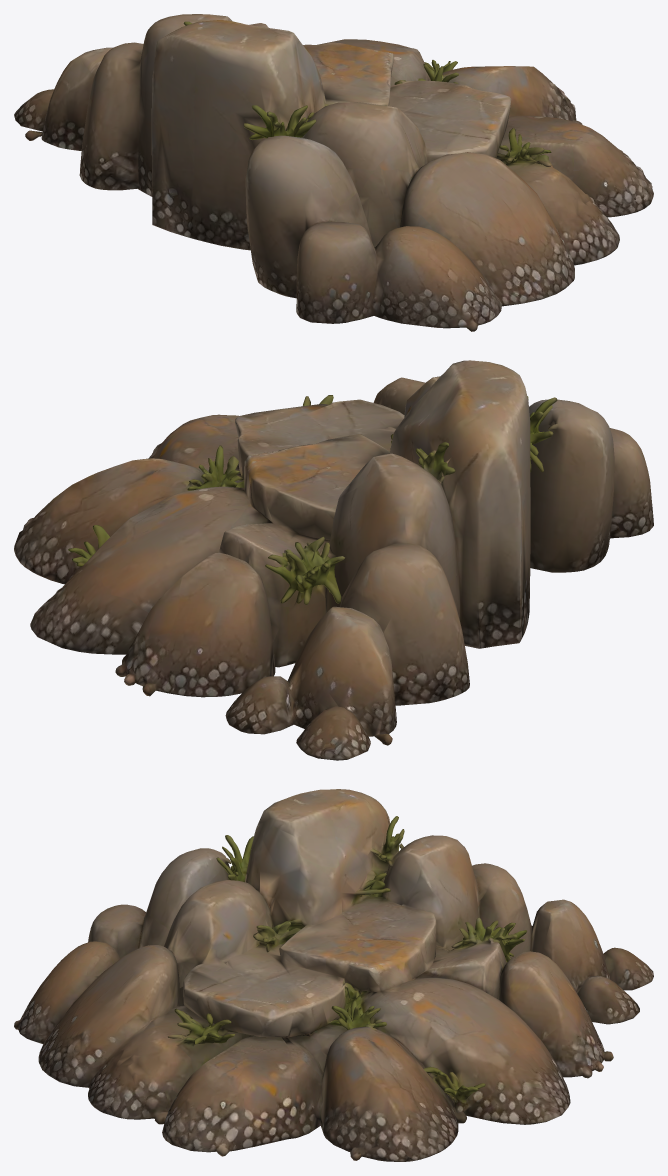
Rendered from rock_boulders.glb.
The picture shows the model from 3 angles, top to bottom: view 1: azimuth 30°, elevation 25°; view 2: azimuth 150°, elevation 25°; view 3: azimuth 270°, elevation 25°; orthographic projection. The views are drawn at different scales.
Parts seen in each view (by area): view 1: tripo_node_8c8402cd-6ca1-47db-96a6-831932eb4a2c; view 2: tripo_node_8c8402cd-6ca1-47db-96a6-831932eb4a2c; view 3: tripo_node_8c8402cd-6ca1-47db-96a6-831932eb4a2c.
Part boxes in pixels (x1=…): tripo_node_8c8402cd-6ca1-47db-96a6-831932eb4a2c: x1=14, y1=14, x2=653, y2=331; tripo_node_8c8402cd-6ca1-47db-96a6-831932eb4a2c: x1=14, y1=360, x2=653, y2=760; tripo_node_8c8402cd-6ca1-47db-96a6-831932eb4a2c: x1=14, y1=789, x2=653, y2=1161.
Bounding box in the file's own units: 0.7523 × 0.3309 × 0.9991.
Materials: 1 (1 with a texture image).
